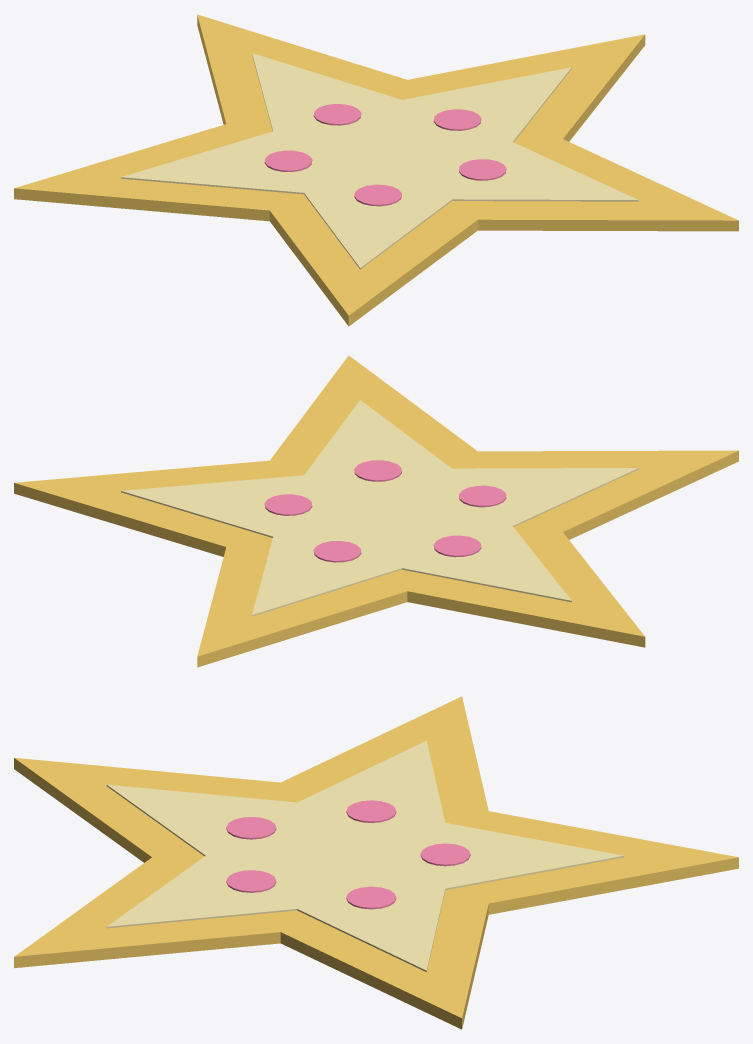
Rendered from bedrug-star.glb.
3 renders of one model, top to bottom at view 1: azimuth 30°, elevation 25°; view 2: azimuth 150°, elevation 25°; view 3: azimuth 270°, elevation 25°, orthographic. The views are drawn at different scales.
Bounding box in the file's own units: 2.13 × 0.045 × 2.03.
